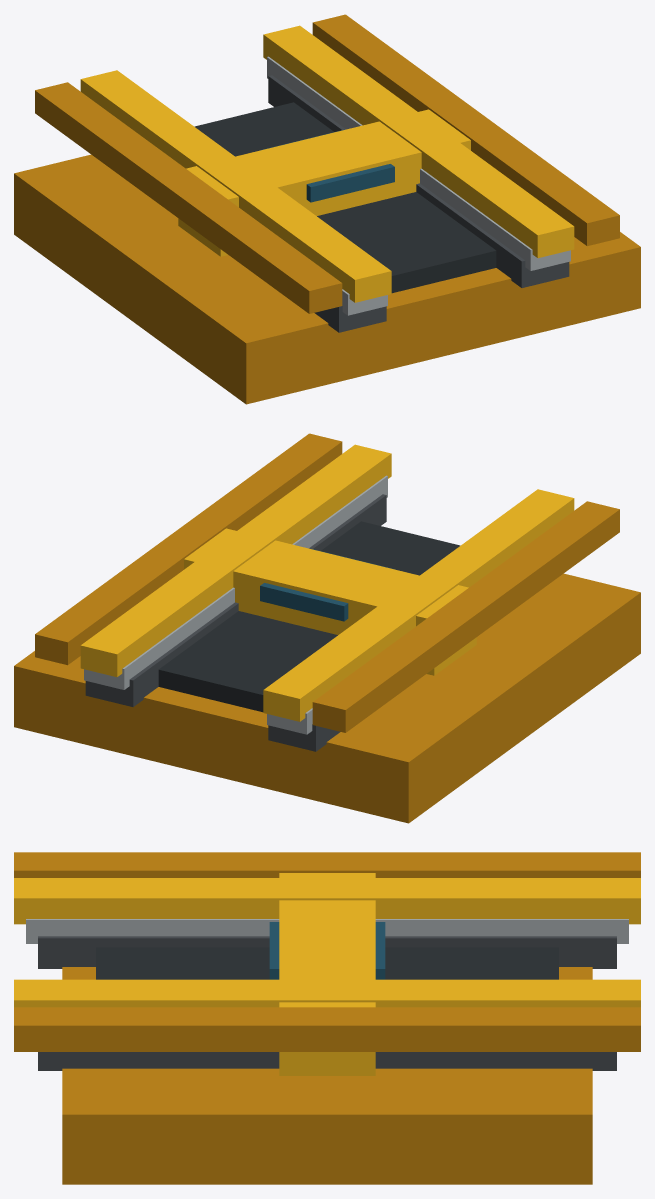
The model's file is asrs_fork_table.glb.
3 views of the same model, one above another, from view 1: azimuth 30°, elevation 25°; view 2: azimuth 150°, elevation 25°; view 3: azimuth 270°, elevation 25° (orthographic). The views are drawn at different scales.
Parts seen in each view (by area): view 1: ForkCarrier, ForkFixedGuide_L, ForkTine_R, ForkTine_L, ForkCarrierCenter, ForkFixedGuide_R, ForkMovingCrossbar, ForkTelescopicStage_R, ForkLowerRail_R, ForkLoadSensorVisual, ForkLowerRail_L, ForkTelescopicStage_L; view 2: ForkCarrier, ForkFixedGuide_L, ForkTine_R, ForkTine_L, ForkCarrierCenter, ForkFixedGuide_R, ForkMovingCrossbar, ForkTelescopicStage_R, ForkLowerRail_R, ForkLoadSensorVisual, ForkLowerRail_L, ForkTelescopicStage_L; view 3: ForkCarrier, ForkFixedGuide_R, ForkTine_L, ForkTine_R, ForkFixedGuide_L, ForkCarrierCenter, ForkMovingCrossbar, ForkTelescopicStage_L, ForkLowerRail_R, ForkLowerRail_L, ForkLoadSensorVisual.
Part boxes in pixels (x1,y1,x2,y2): ForkCarrier: (14, 154, 640, 404); ForkFixedGuide_L: (35, 82, 342, 313); ForkTine_R: (263, 25, 574, 258); ForkTine_L: (80, 70, 391, 302); ForkCarrierCenter: (194, 102, 496, 293); ForkFixedGuide_R: (312, 14, 619, 246); ForkMovingCrossbar: (178, 109, 470, 256); ForkTelescopicStage_R: (267, 56, 570, 270); ForkLowerRail_R: (268, 75, 569, 287); ForkLoadSensorVisual: (260, 130, 394, 202); ForkLowerRail_L: (314, 305, 386, 332); ForkTelescopicStage_L: (342, 289, 387, 315); ForkCarrier: (14, 573, 640, 823); ForkFixedGuide_L: (312, 501, 619, 732); ForkTine_R: (80, 444, 391, 677); ForkTine_L: (263, 489, 574, 721); ForkCarrierCenter: (158, 521, 460, 712); ForkFixedGuide_R: (35, 433, 342, 665); ForkMovingCrossbar: (184, 528, 476, 675); ForkTelescopicStage_R: (84, 475, 387, 689); ForkLowerRail_R: (85, 494, 386, 706); ForkLoadSensorVisual: (260, 549, 394, 621); ForkLowerRail_L: (268, 724, 340, 751); ForkTelescopicStage_L: (267, 708, 312, 734); ForkCarrier: (62, 967, 592, 1184); ForkFixedGuide_R: (14, 1007, 640, 1051); ForkTine_L: (14, 878, 640, 924); ForkTine_R: (14, 979, 640, 1007); ForkFixedGuide_L: (14, 852, 640, 877); ForkCarrierCenter: (96, 947, 558, 979); ForkMovingCrossbar: (279, 873, 375, 1075); ForkTelescopicStage_L: (26, 919, 628, 943); ForkLowerRail_R: (38, 1052, 616, 1070); ForkLowerRail_L: (38, 936, 616, 968); ForkLoadSensorVisual: (269, 922, 385, 979).
Bounding box in the file's own units: 1.08 × 0.31 × 1.3.
